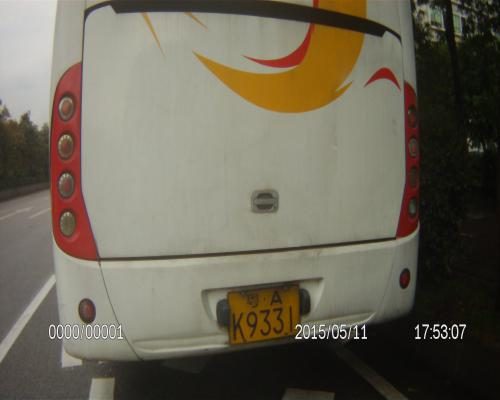Carplate: (218, 279, 304, 347)
